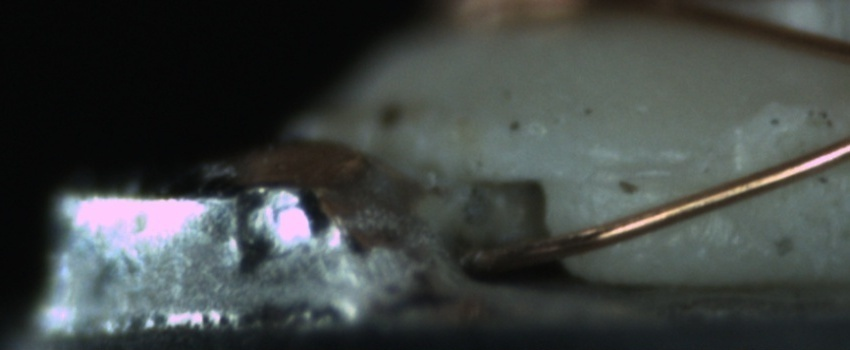DL: (585, 141, 703, 199)
